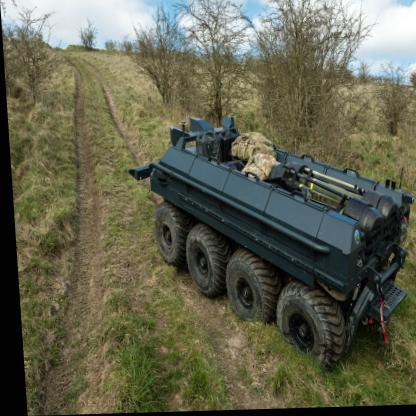UGV: (120, 108, 415, 373)
